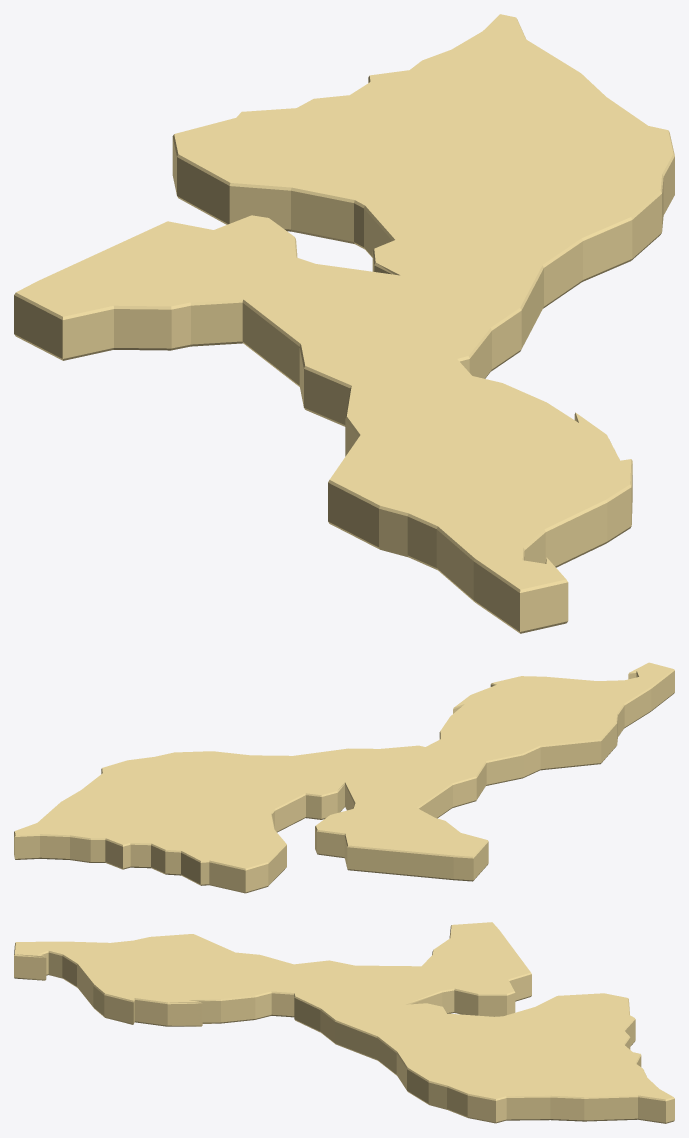
File: MOZ.glb
The picture shows the model from 3 angles, top to bottom: view 1: azimuth 30°, elevation 25°; view 2: azimuth 150°, elevation 25°; view 3: azimuth 270°, elevation 25°; orthographic projection. The views are drawn at different scales.
Size of the model in its own units: 1.07 by 0.068 by 1.67.
